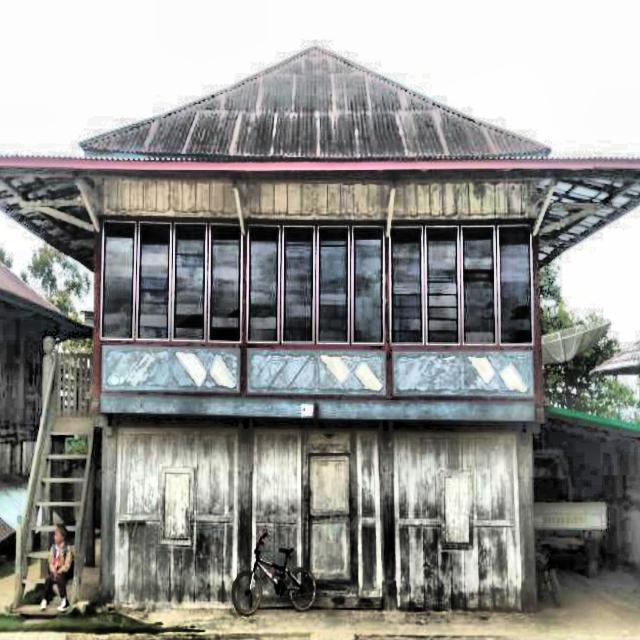door: (309, 454, 351, 580)
ornamen: (392, 351, 534, 398), (102, 346, 240, 394), (248, 347, 386, 395)
roof: (0, 45, 640, 268), (0, 263, 92, 339), (545, 406, 640, 434), (593, 342, 640, 375)
stair: (14, 353, 97, 607)
wall: (235, 181, 391, 400), (98, 178, 241, 397), (392, 181, 534, 400), (394, 430, 523, 611), (253, 427, 382, 608), (113, 426, 238, 607)
window: (173, 224, 205, 340), (463, 227, 495, 343), (499, 227, 531, 343), (102, 223, 134, 338), (138, 224, 170, 339), (426, 228, 458, 343), (391, 228, 422, 343), (209, 227, 240, 341), (283, 228, 314, 342), (318, 228, 348, 342), (353, 228, 382, 343), (249, 227, 278, 341), (163, 473, 190, 540), (445, 477, 469, 543)
